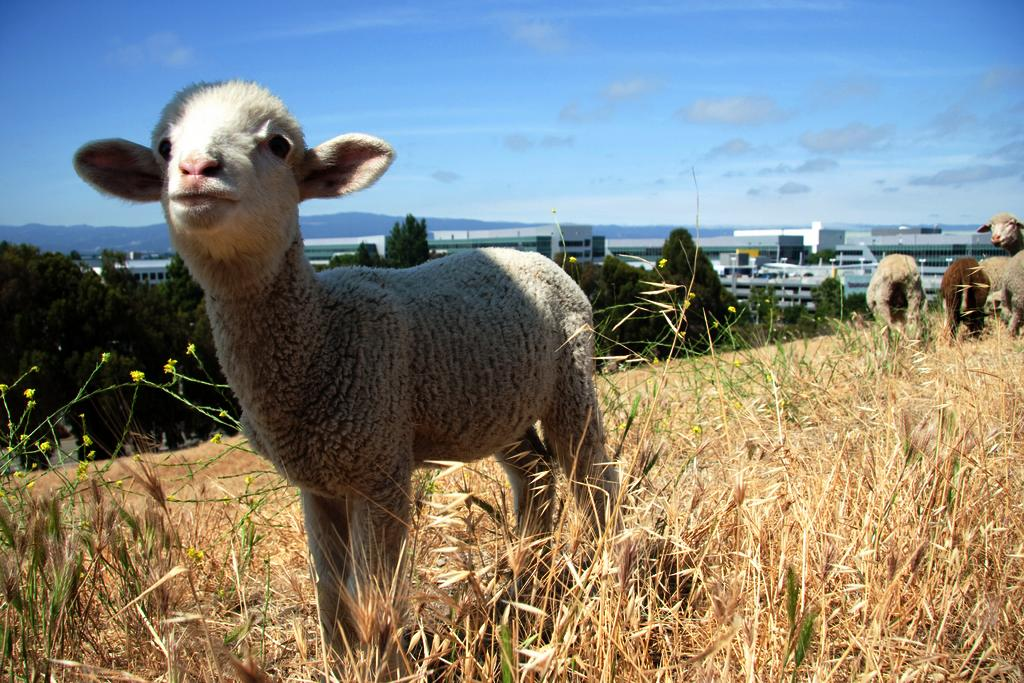Sheep: (72, 77, 619, 682)
